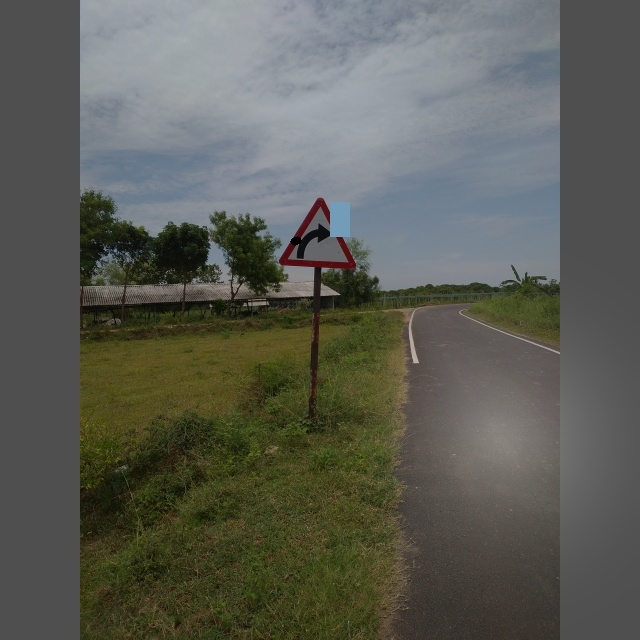Right_Hand_Curve: (280, 197, 354, 271)
